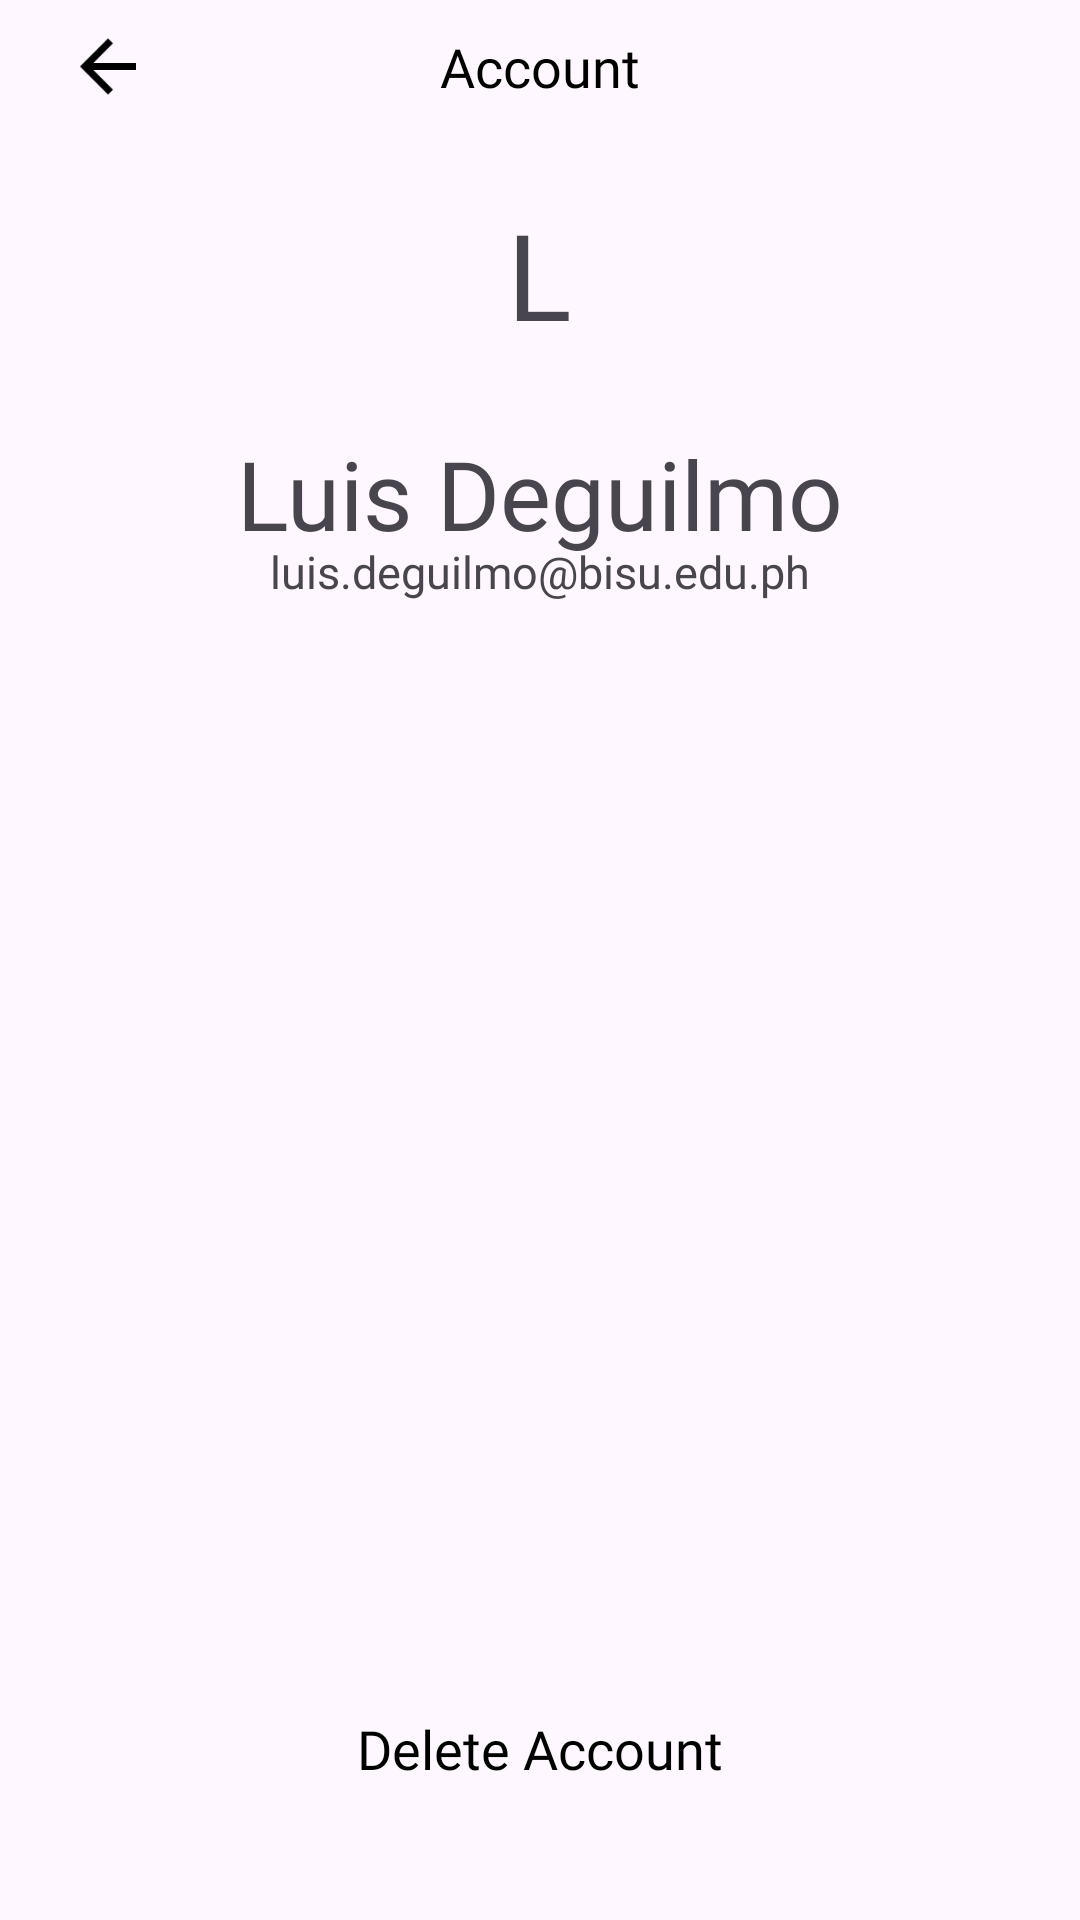

Locate icon controls on the screen. Image size 1080×1920, boxes as [x1, y1, x2, y2].
arrow back: [80, 38, 136, 95]
